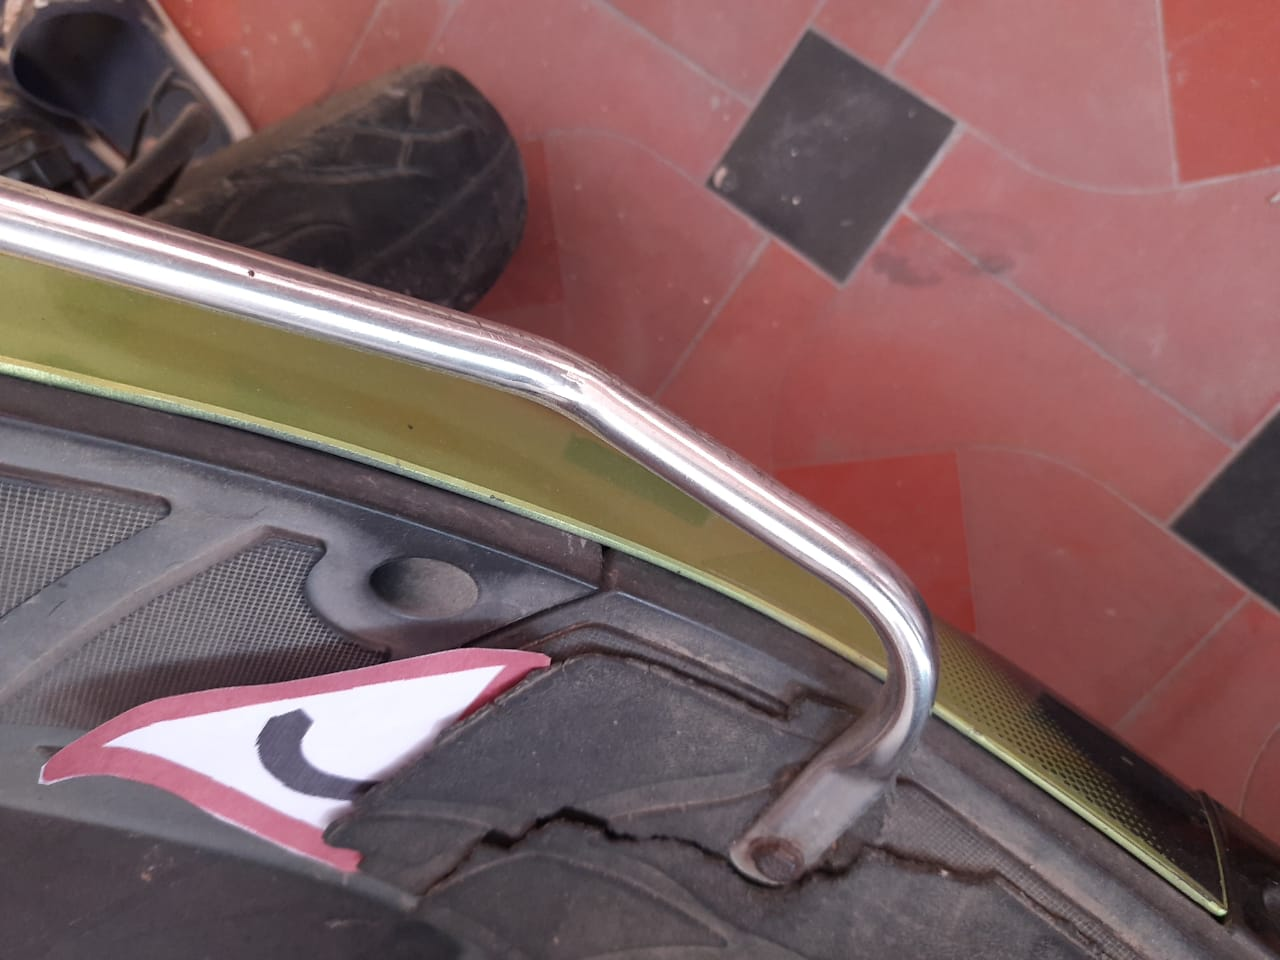RIGHT CURVE: (43, 575, 613, 893)
